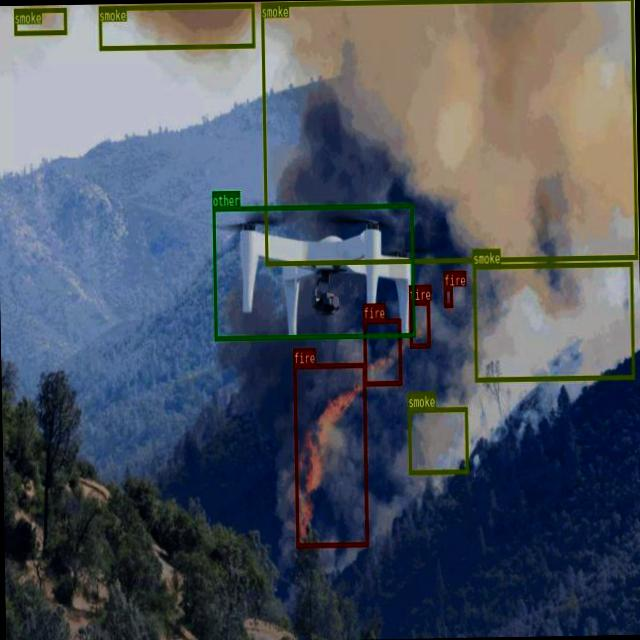fire: (292, 363, 368, 547), (362, 318, 400, 384), (408, 300, 429, 348), (444, 286, 452, 306)
smoke: (260, 0, 636, 264), (472, 261, 634, 381), (98, 2, 254, 50), (407, 406, 468, 473), (13, 8, 65, 34)
